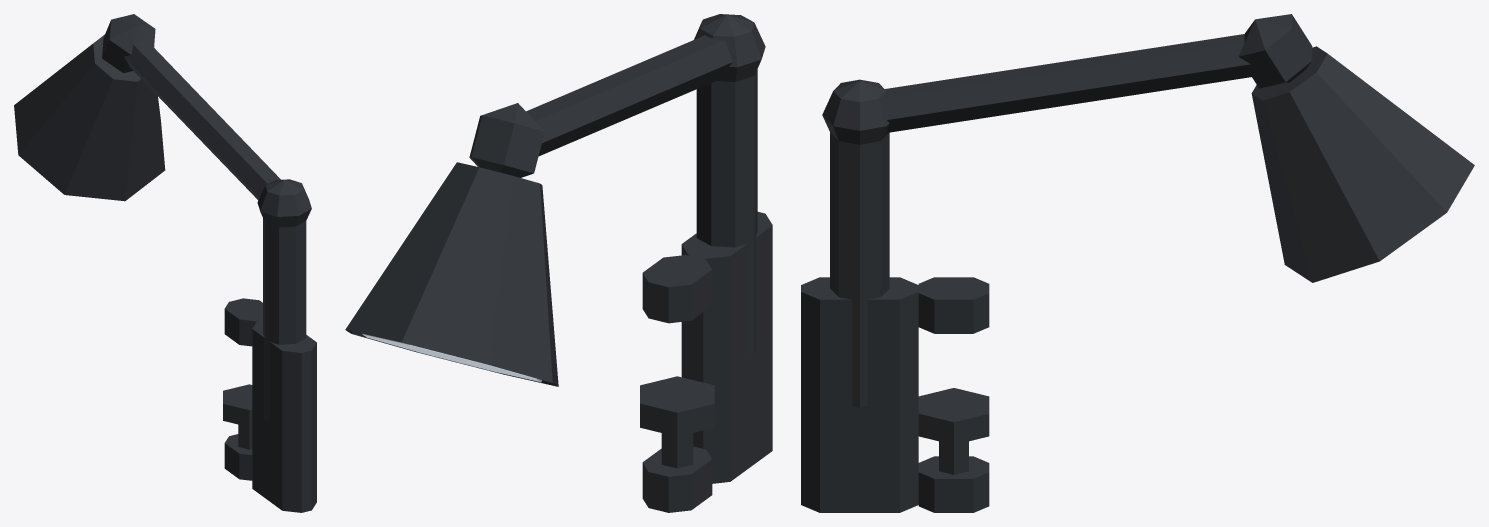
The model's file is SM_LPI_Light_Desk_01.fbx.
3 views of the same model, side by side, from view 1: azimuth 30°, elevation 25°; view 2: azimuth 150°, elevation 25°; view 3: azimuth 270°, elevation 25° (orthographic). The views are drawn at different scales.
Visible parts, largest first — view 1: SM_LPI_Light_Desk_01; view 2: SM_LPI_Light_Desk_01; view 3: SM_LPI_Light_Desk_01.
Boxes of the visible parts, x1=… form: SM_LPI_Light_Desk_01: x1=14, y1=14, x2=316, y2=512; SM_LPI_Light_Desk_01: x1=345, y1=14, x2=772, y2=512; SM_LPI_Light_Desk_01: x1=801, y1=14, x2=1474, y2=512.
Size of the model in its own units: 0.14 by 0.3393 by 0.4296.
